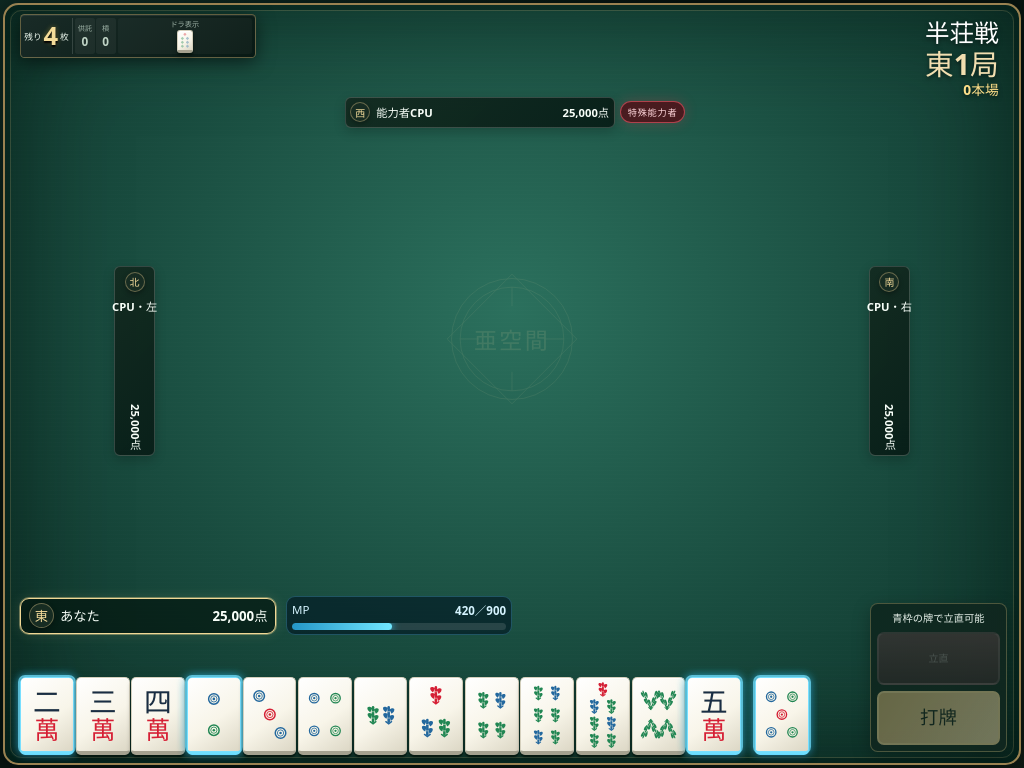
Test: GameBoardのCPU進行演出 › 立直演出後もCPUのツモまで0.5秒待機する
Click the button named "五筒" at (782, 716), box [755, 677, 809, 756]
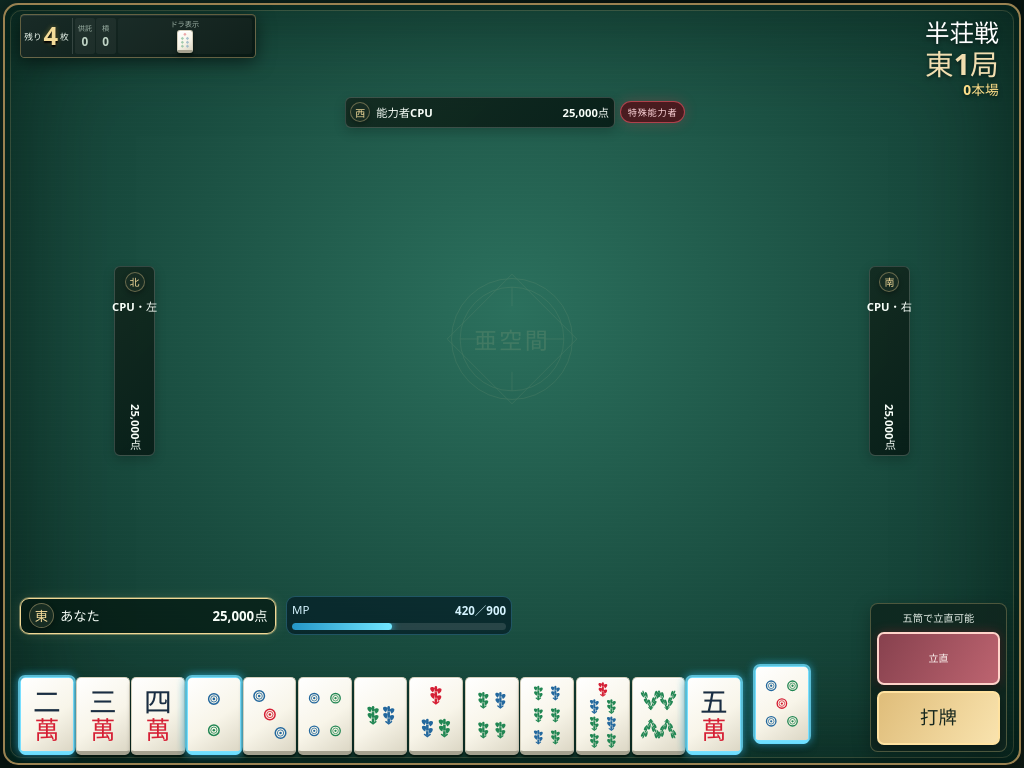
Click the button "立直" at (938, 658), box [877, 632, 1000, 685]
Wait 4000 ms
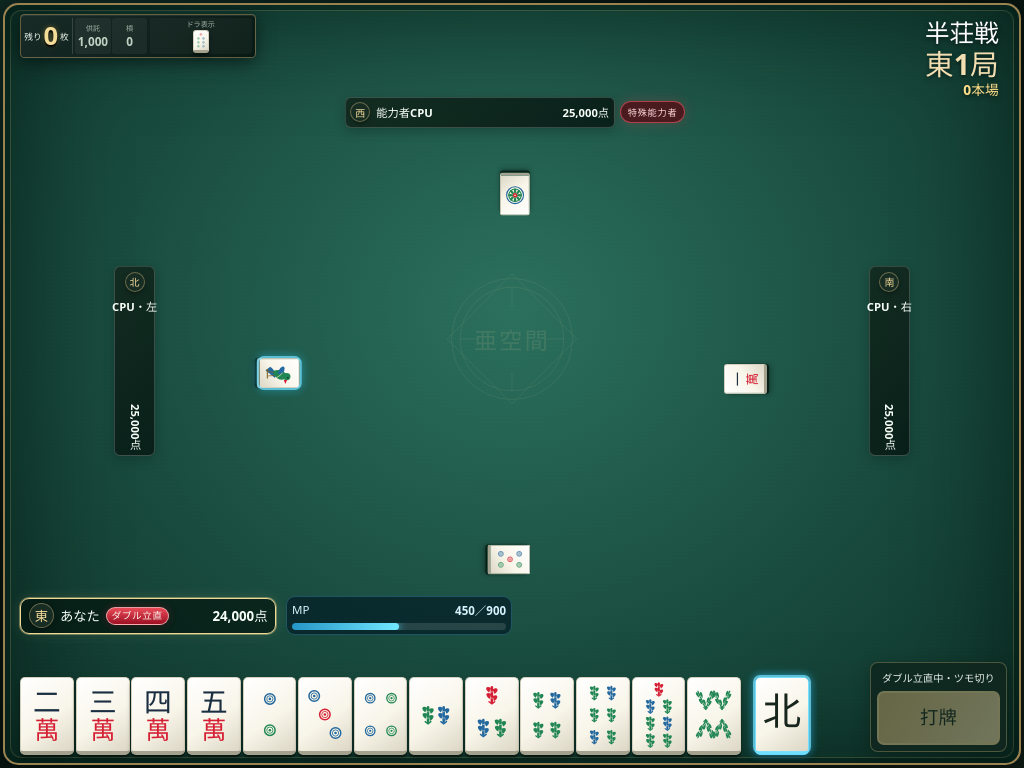
Expected: the text "CPU進行中…" is shown, [877, 670, 1000, 685]
Now the text "24,000点" is shown, box [212, 606, 268, 625]
Now the text "1,000" is shown, box [78, 33, 108, 49]
